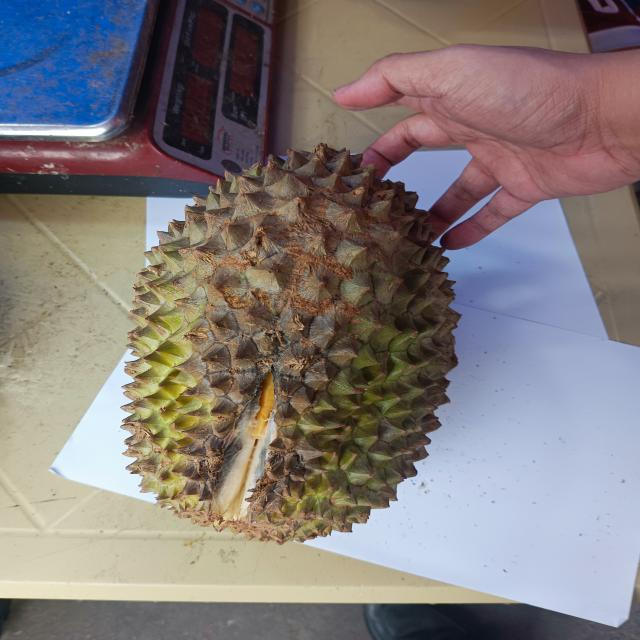defective: (116, 135, 458, 540)
